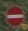No entry: (6, 5, 23, 26)
